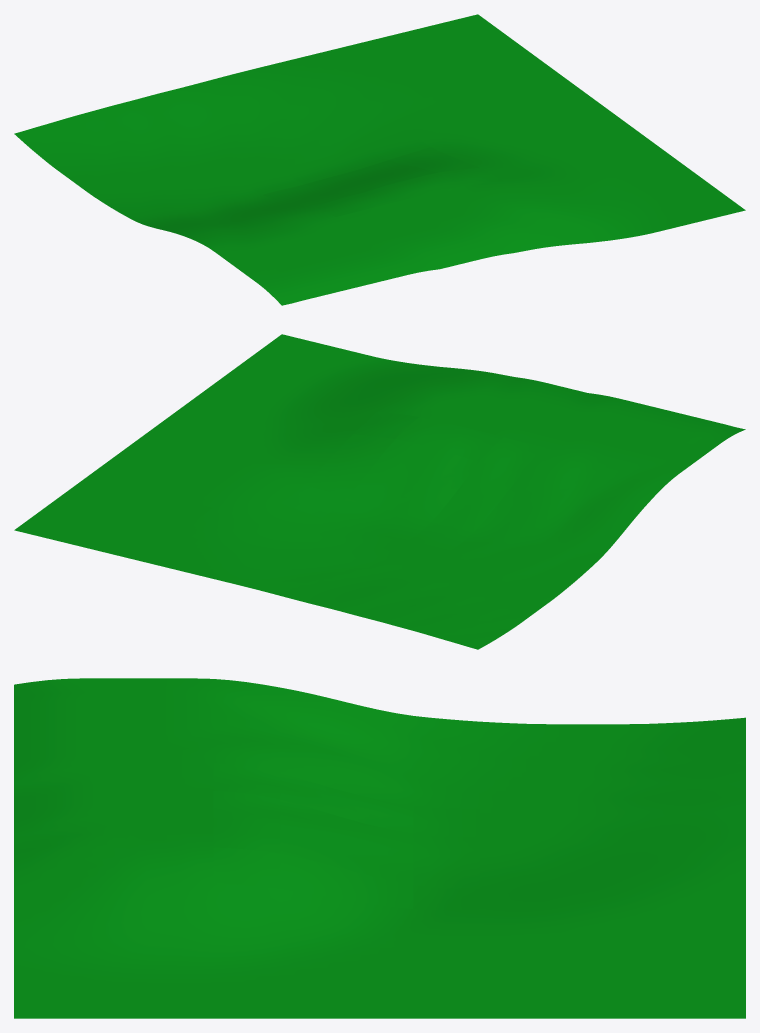
The model's file is CHUNK_0_1.glb.
3 renders of one model, top to bottom at view 1: azimuth 30°, elevation 25°; view 2: azimuth 150°, elevation 25°; view 3: azimuth 270°, elevation 25°, orthographic. The views are drawn at different scales.
Visible parts, largest first — view 1: Chunk_0_1; view 2: Chunk_0_1; view 3: Chunk_0_1.
Boxes of the visible parts, x1,y1,x2,y2 form: Chunk_0_1: (14, 14, 745, 305); Chunk_0_1: (14, 334, 745, 649); Chunk_0_1: (14, 678, 745, 1018).
Bounding box in the file's own units: 100 × 6.89 × 100.
